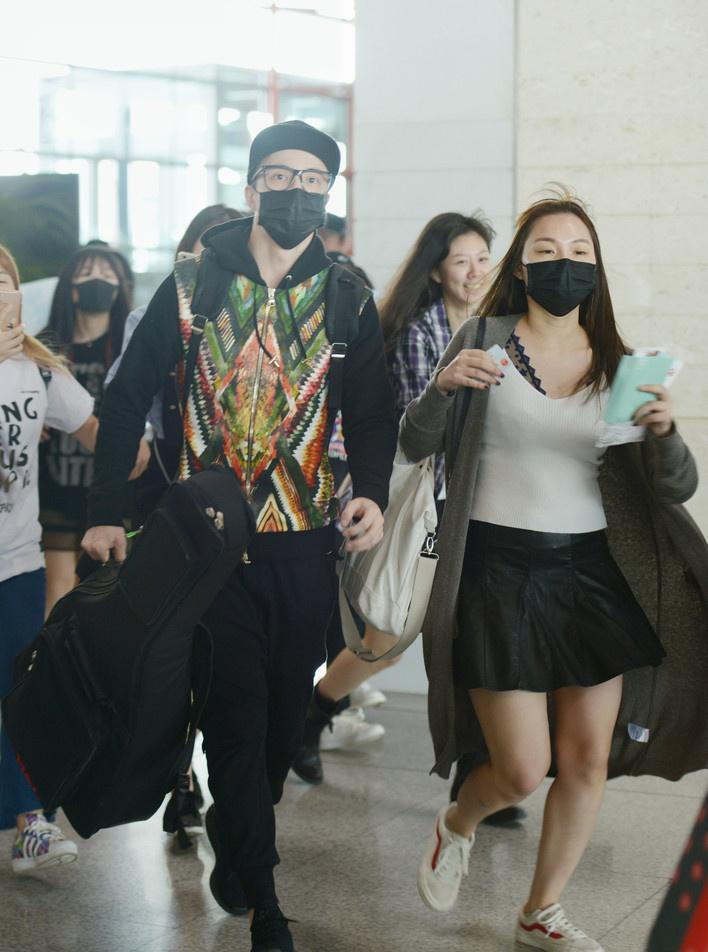NONE: (443, 239, 494, 299)
OK: (245, 159, 335, 249), (516, 232, 604, 320), (74, 263, 123, 315)
